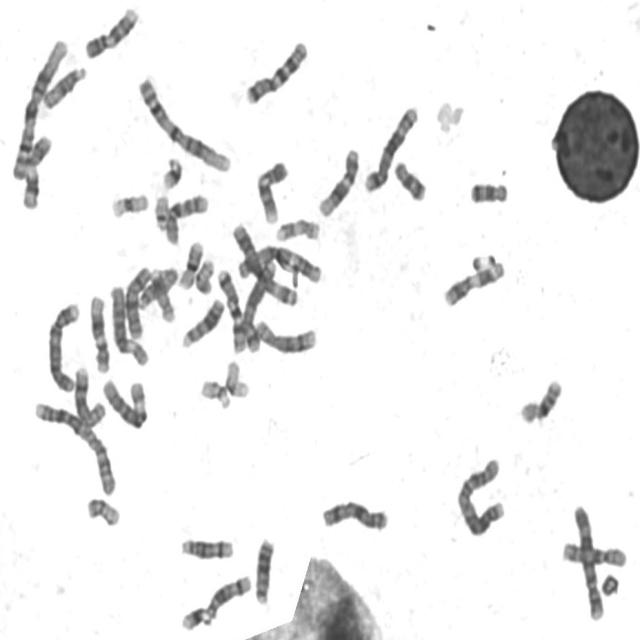A1: (135, 70, 233, 175), (8, 31, 70, 183)
A2: (30, 395, 119, 498), (453, 450, 508, 538)
A3: (229, 218, 301, 307), (232, 238, 324, 286)
B4: (570, 497, 607, 622), (44, 296, 82, 394)
B5: (361, 98, 421, 195), (234, 252, 278, 352)
C10: (161, 186, 211, 246), (558, 535, 630, 569)
C11: (439, 256, 508, 308), (18, 128, 54, 211)
C12: (315, 142, 362, 218), (86, 289, 112, 374)
C6: (107, 278, 151, 368), (98, 372, 150, 431)
C7: (241, 34, 311, 106), (214, 262, 249, 354)
C8: (251, 314, 319, 356), (70, 360, 108, 429)
C9: (80, 0, 140, 60), (253, 154, 290, 224)
D13: (178, 292, 226, 349), (251, 531, 277, 605)
D14: (203, 568, 254, 620), (176, 531, 236, 561)
D15: (39, 59, 89, 111), (134, 261, 180, 310)
E16: (516, 372, 565, 425), (175, 235, 206, 290)
E17: (148, 267, 176, 324), (272, 212, 323, 243)
E18: (390, 154, 429, 202), (466, 174, 511, 207)
F19: (107, 185, 151, 220), (221, 354, 252, 400)
F20: (83, 491, 123, 528), (192, 253, 216, 296)
G21: (177, 600, 213, 632), (158, 151, 185, 191)
G22: (198, 373, 232, 410), (150, 188, 171, 232)
X: (318, 493, 391, 532), (121, 259, 152, 341)
